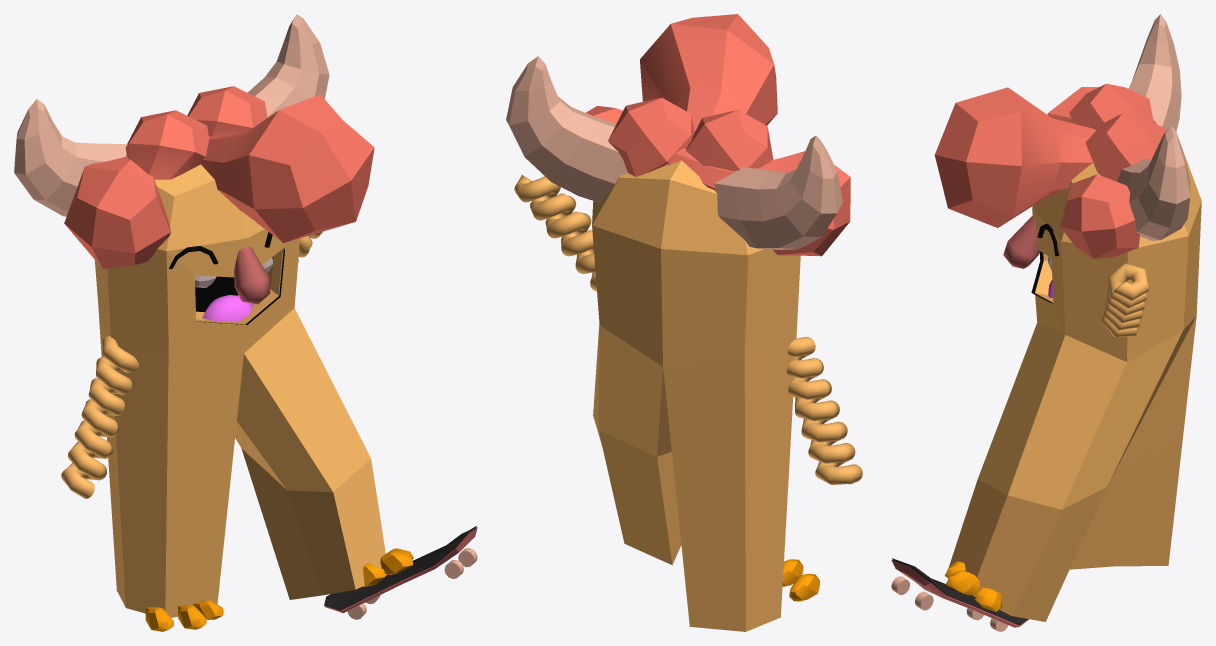
File: elf7.glb
3 renders of one model, left to right at view 1: azimuth 30°, elevation 25°; view 2: azimuth 150°, elevation 25°; view 3: azimuth 270°, elevation 25°, orthographic. The views are drawn at different scales.
Visible parts, largest first — view 1: body, Cube 10 (×2), horn_r, arm_r, Cube 11, horn_l, Cube 12, Cube 13, nose, mouth, tongue, Cube 14; view 2: body, Cube 10 (×2), horn_l, horn_r, arm_r, Cube 12, Cube 11, arm_l, nail; view 3: body, Cube 10 (×2), Cube 11 (×2), horn_l, horn_r, Cube 12, arm_l, nose, nail (×2), Cube 13, Cube 14.
Part boxes in pixels (box(x1,y1,x2,y2)): body: box(95, 164, 387, 617); Cube 10 (×2): box(64, 94, 374, 268); horn_r: box(14, 99, 127, 216); arm_r: box(61, 336, 138, 498); Cube 11: box(125, 110, 209, 179); horn_l: box(247, 14, 329, 117); Cube 12: box(187, 86, 267, 136); Cube 13: box(324, 526, 476, 610); nose: box(234, 246, 270, 304); mouth: box(195, 248, 284, 324); tongue: box(202, 295, 253, 322); Cube 14: box(325, 527, 477, 613); body: box(592, 133, 800, 631); Cube 10 (×2): box(640, 14, 850, 256); horn_l: box(506, 56, 627, 202); horn_r: box(714, 135, 842, 249); arm_r: box(786, 336, 862, 484); Cube 12: box(608, 97, 694, 176); Cube 11: box(686, 110, 773, 171); arm_l: box(514, 175, 596, 291); nail: box(789, 573, 819, 601); body: box(949, 147, 1201, 621); Cube 10 (×2): box(934, 87, 1156, 227); Cube 11 (×2): box(1060, 83, 1153, 258); horn_l: box(1117, 125, 1190, 240); horn_r: box(1128, 14, 1181, 131); Cube 12: box(1085, 113, 1165, 181); arm_l: box(1101, 263, 1148, 337); nose: box(1003, 216, 1039, 268); nail (×2): box(945, 570, 1002, 611); Cube 13: box(892, 558, 1028, 625); Cube 14: box(891, 560, 1028, 627).
Size of the model in its own units: 4.45 by 6.46 by 3.53.
